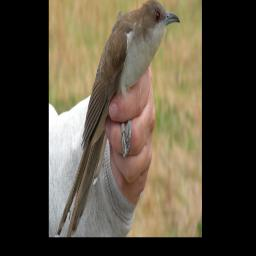Cuckoo: (56, 0, 180, 236)
